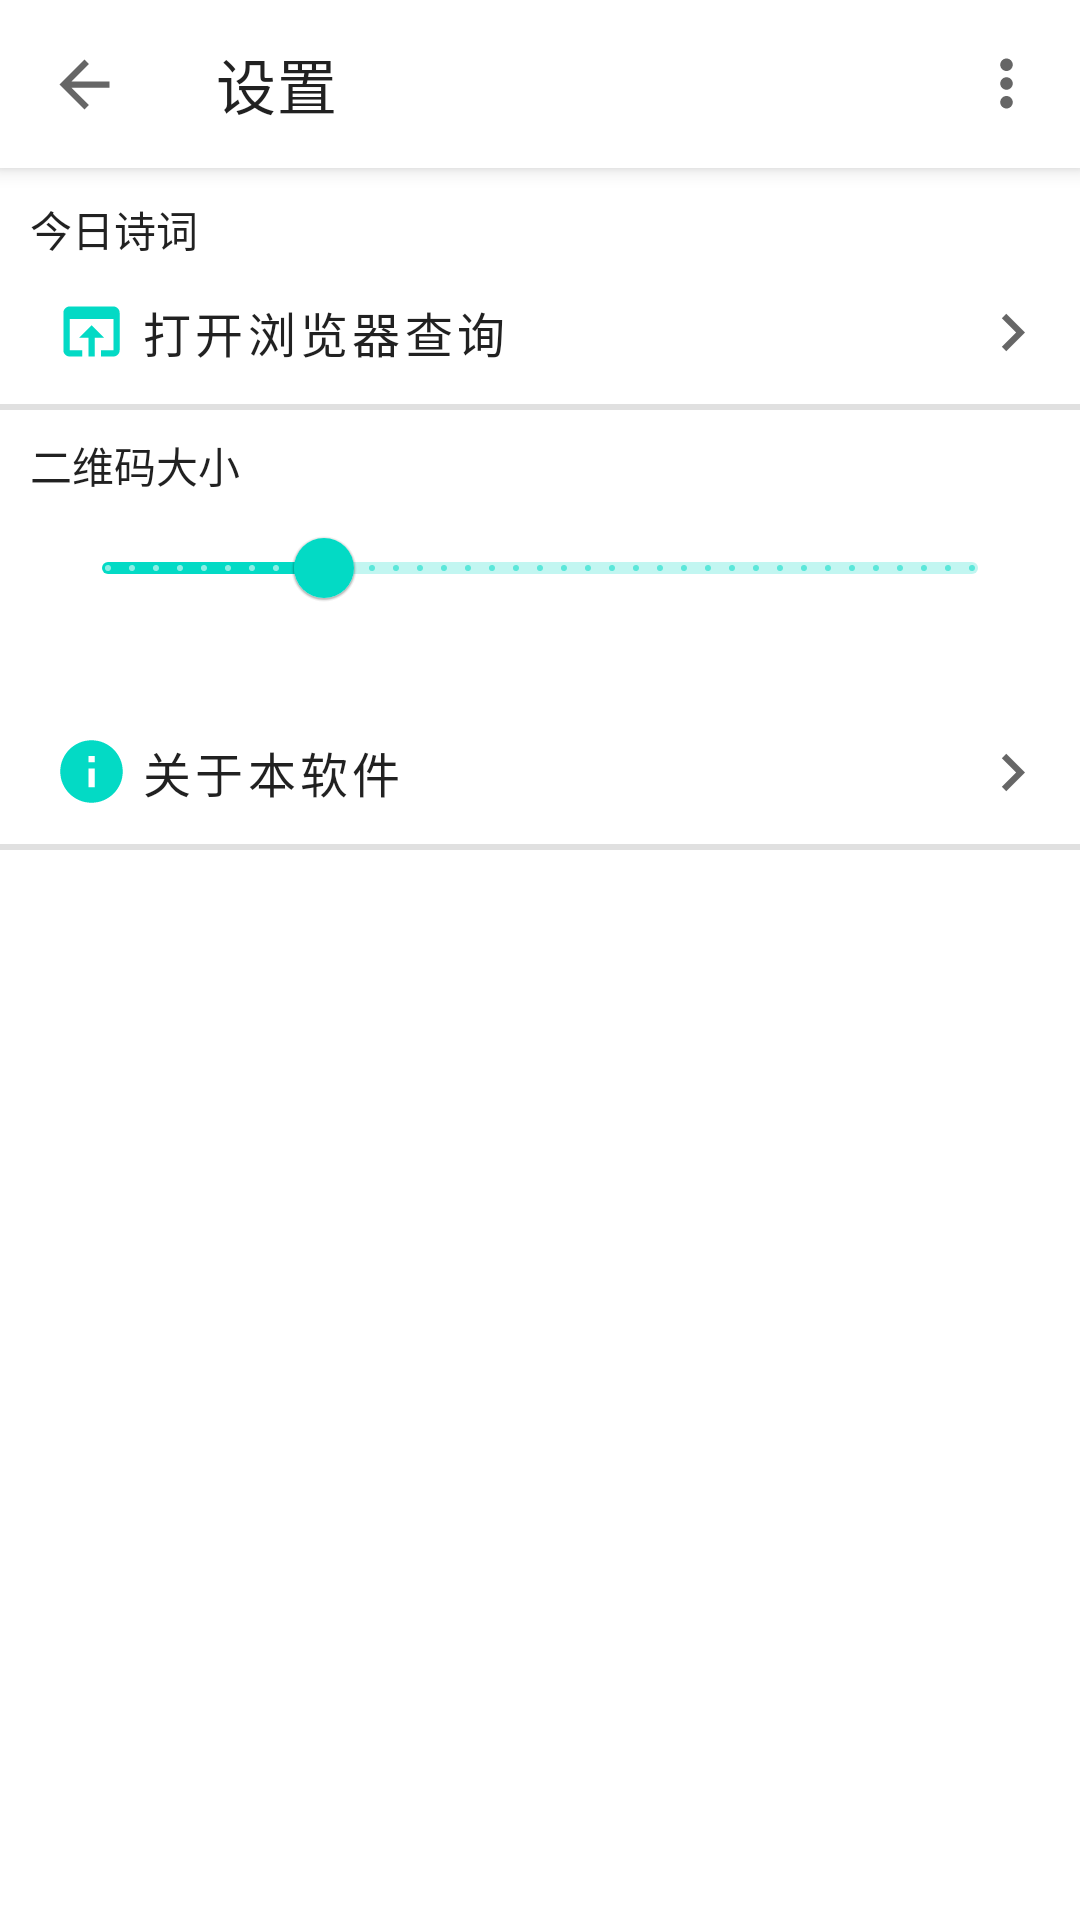

Screen size 1080px×1920px. Icon name, then its center in pixels as (x,y):
go to: (1013,332), (1013,772)
